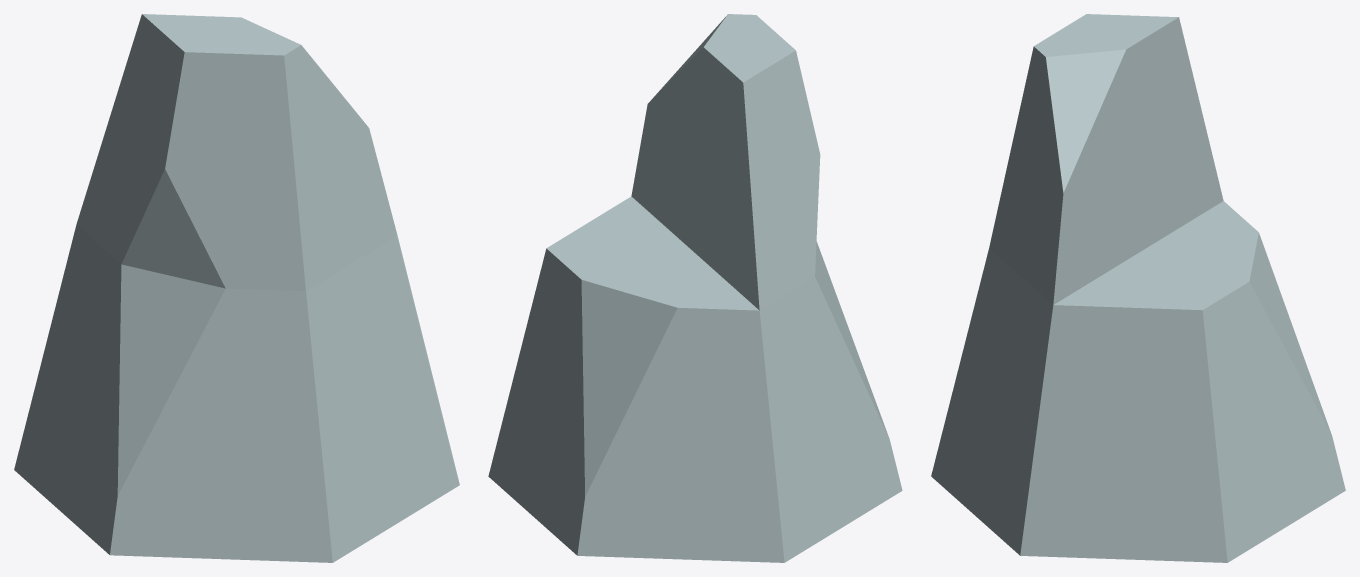
Rendered from stone_tallJ.glb.
3 views of the same model, side by side, from view 1: azimuth 30°, elevation 25°; view 2: azimuth 150°, elevation 25°; view 3: azimuth 270°, elevation 25° (orthographic). The views are drawn at different scales.
Visible parts, largest first — view 1: stone_tallJ; view 2: stone_tallJ; view 3: stone_tallJ.
Boxes of the visible parts, bbox=[...] form: stone_tallJ: bbox=[14, 14, 459, 562]; stone_tallJ: bbox=[488, 14, 902, 562]; stone_tallJ: bbox=[931, 14, 1345, 562].
Bounding box in the file's own units: 0.4879 × 0.62 × 0.5382.
